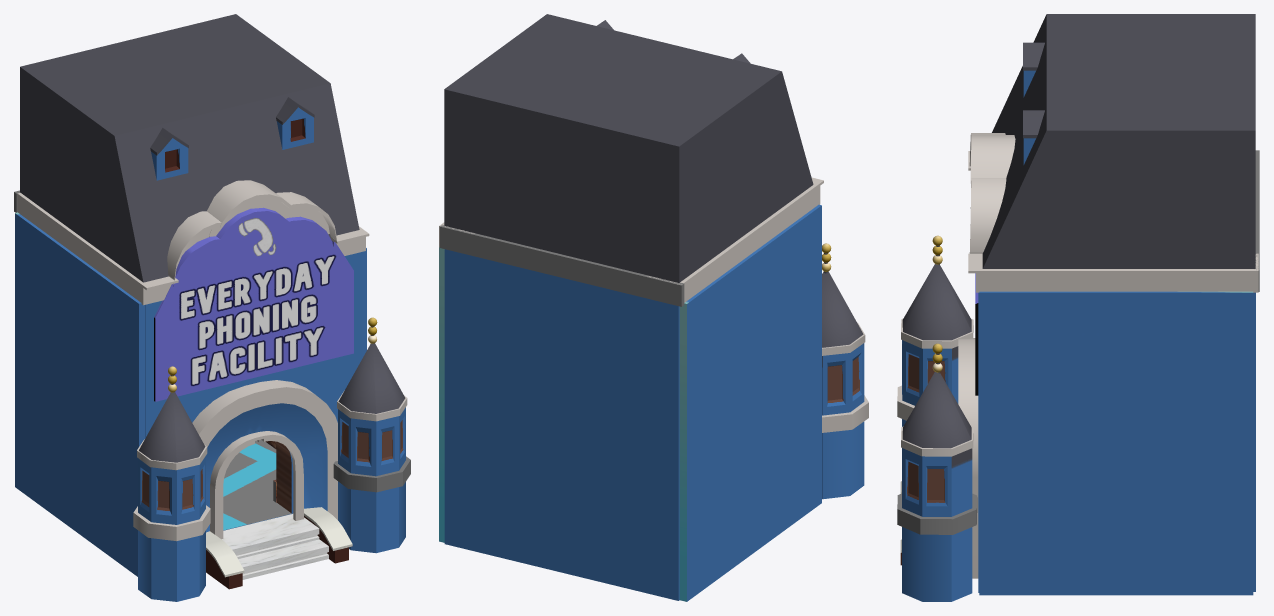
Rendered from EdificioGigante.obj.
3 renders of one model, left to right at view 1: azimuth 30°, elevation 25°; view 2: azimuth 150°, elevation 25°; view 3: azimuth 270°, elevation 25°, orthographic. The views are drawn at different scales.
Parts seen in each view (by area): view 1: pCube6 polySurface32, pCube6 polySurface74, pCube6 polySurface38, pCube6 polySurface65, pCube6 polySurface71, polySurface31 pCube6, pCube6 polySurface42, pCube6 polySurface43, pCube6 polySurface50, pCube6 polySurface76, pCube6 polySurface33, pCube6 polySurface36 (+13 smaller); view 2: pCube6 polySurface32, polySurface85, pCube6 polySurface74, pCube6 polySurface65, pCube6 polySurface34, pCube6 polySurface36, pCube6 polySurface73, pCube6 polySurface60; view 3: pCube6 polySurface73, pCube6 polySurface32, pCube6 polySurface71, pCube6 polySurface35, pCube6 polySurface65, pCube6 polySurface33, pCube6 polySurface43, pCube6 polySurface54, polySurface85, pCube6 polySurface66, pCube6 polySurface67, pCube6 polySurface34 (+3 smaller).
Part boxes in pixels (left/top/right/bottom): pCube6 polySurface32: left=20, top=14, right=359, bottom=282; pCube6 polySurface74: left=15, top=212, right=145, bottom=576; pCube6 polySurface38: left=154, top=207, right=353, bottom=401; pCube6 polySurface65: left=138, top=392, right=205, bottom=601; pCube6 polySurface71: left=338, top=343, right=405, bottom=553; polySurface31 pCube6: left=145, top=252, right=362, bottom=437; pCube6 polySurface42: left=206, top=403, right=327, bottom=532; pCube6 polySurface43: left=192, top=380, right=337, bottom=519; pCube6 polySurface50: left=222, top=514, right=328, bottom=579; pCube6 polySurface76: left=223, top=439, right=293, bottom=530; pCube6 polySurface33: left=167, top=180, right=336, bottom=280; pCube6 polySurface36: left=17, top=193, right=178, bottom=305; pCube6 polySurface32: left=444, top=14, right=813, bottom=282; polySurface85: left=444, top=249, right=679, bottom=600; pCube6 polySurface74: left=679, top=204, right=821, bottom=601; pCube6 polySurface65: left=822, top=271, right=864, bottom=499; pCube6 polySurface34: left=440, top=224, right=684, bottom=306; pCube6 polySurface36: left=647, top=177, right=823, bottom=302; pCube6 polySurface73: left=439, top=247, right=444, bottom=542; pCube6 polySurface60: left=822, top=395, right=868, bottom=432; pCube6 polySurface73: left=979, top=291, right=1253, bottom=595; pCube6 polySurface32: left=982, top=14, right=1255, bottom=268; pCube6 polySurface71: left=902, top=372, right=972, bottom=601; pCube6 polySurface35: left=968, top=253, right=1258, bottom=292; pCube6 polySurface65: left=902, top=264, right=971, bottom=426; pCube6 polySurface33: left=969, top=133, right=1015, bottom=253; pCube6 polySurface43: left=958, top=338, right=978, bottom=578; pCube6 polySurface54: left=897, top=493, right=977, bottom=534; polySurface85: left=1253, top=292, right=1255, bottom=591; pCube6 polySurface66: left=901, top=426, right=973, bottom=456; pCube6 polySurface67: left=901, top=318, right=973, bottom=348; pCube6 polySurface34: left=1255, top=150, right=1259, bottom=291.
Bounding box in the file's own units: 12 × 18.3 × 12.97.
